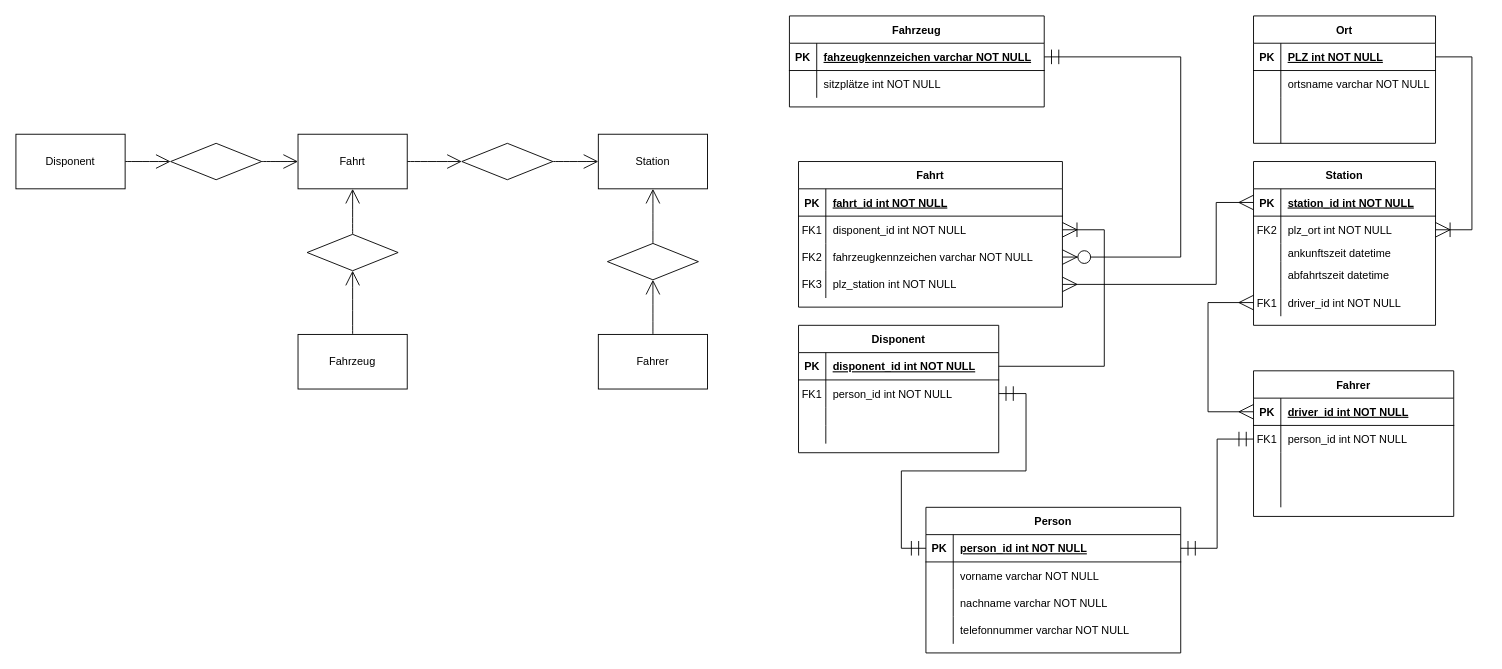
The diagram is 1502 pixels wide and 669 high, and some of its shapes have lost their labels. The box of each missing label's shape, as (x1, y1, x2, y2) in pixels:
fährt: (306, 233, 398, 271)
fährt ab: (607, 243, 698, 280)
hat: (461, 142, 553, 180)
organisieren: (170, 142, 262, 180)
